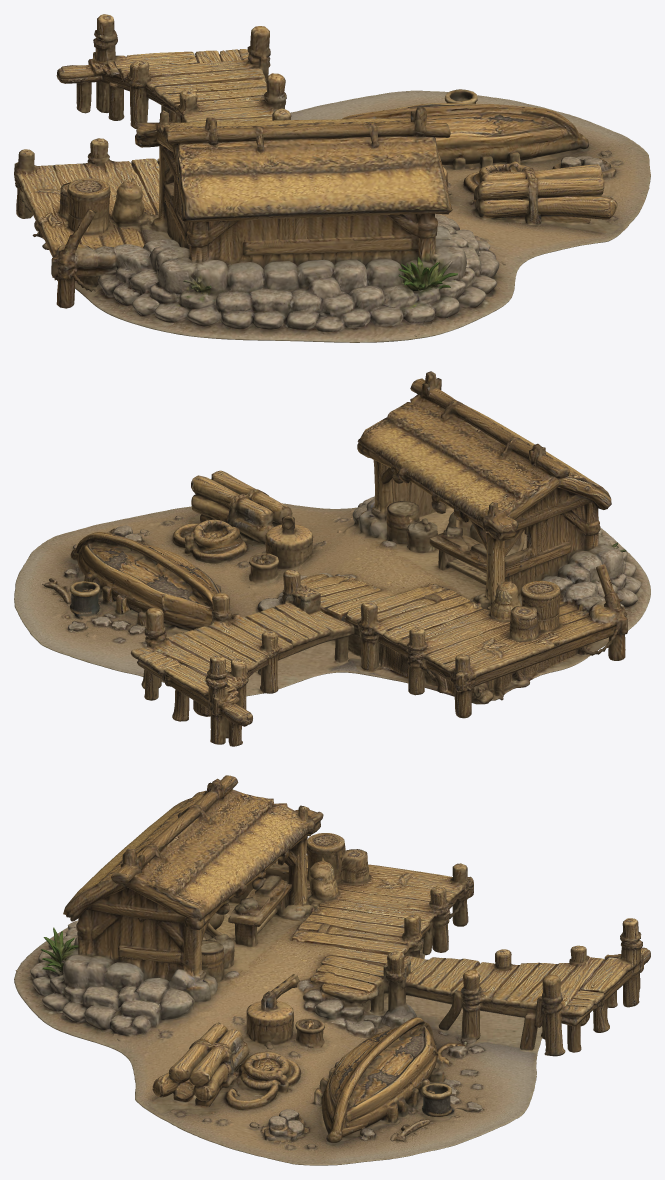
Rendered from tripo_convert_c7157f49-3a87-462f-b916-247130c0fc31.fbx.
3 views of the same model, one above another, from view 1: azimuth 30°, elevation 25°; view 2: azimuth 150°, elevation 25°; view 3: azimuth 270°, elevation 25° (orthographic). The views are drawn at different scales.
Visible parts, largest first — view 1: tripo_node_c7157f49; view 2: tripo_node_c7157f49; view 3: tripo_node_c7157f49.
Part boxes in pixels (bbox=[...]): tripo_node_c7157f49: bbox=[14, 14, 650, 342]; tripo_node_c7157f49: bbox=[14, 371, 650, 746]; tripo_node_c7157f49: bbox=[14, 775, 650, 1165].
Size of the model in its own units: 0.98 by 0.2939 by 0.9666.
Materials: 1 (1 with a texture image).
